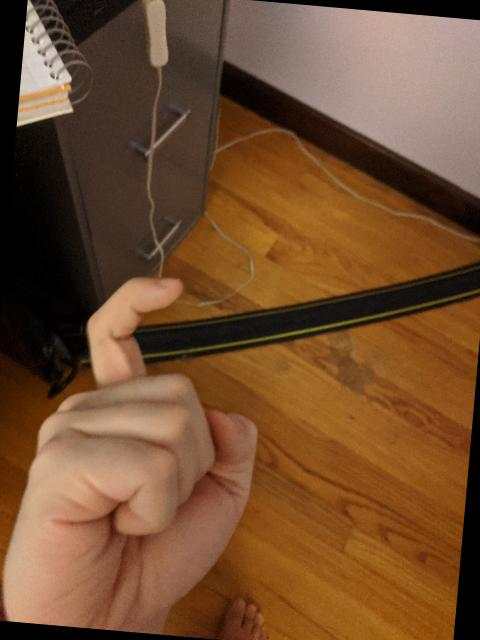X: (0, 257, 280, 640)
